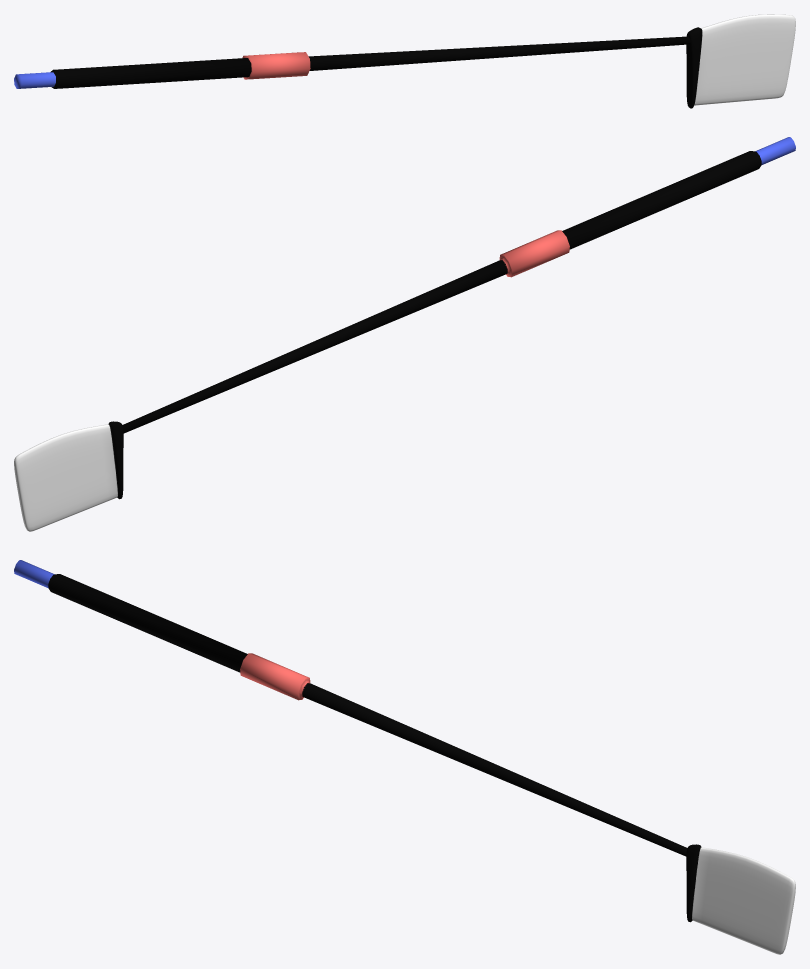
File: Oar_Left.fbx
3 views of the same model, one above another, from view 1: azimuth 30°, elevation 25°; view 2: azimuth 210°, elevation 25°; view 3: azimuth 330°, elevation 25° (orthographic).
Parts seen in each view (by area): view 1: Cylinder.008, Cylinder.009; view 2: Cylinder.008, Cylinder.009; view 3: Cylinder.008, Cylinder.009.
Boxes of the visible parts, left/top/right/bottom form: Cylinder.008: left=14, top=36, right=690, bottom=88; Cylinder.009: left=686, top=14, right=795, bottom=108; Cylinder.008: left=122, top=137, right=795, bottom=433; Cylinder.009: left=14, top=421, right=123, bottom=531; Cylinder.008: left=14, top=560, right=687, bottom=856; Cylinder.009: left=686, top=844, right=795, bottom=954.
Size of the model in its own units: 600 by 154 by 17.22.
Materials: 2 (2 with a texture image).
